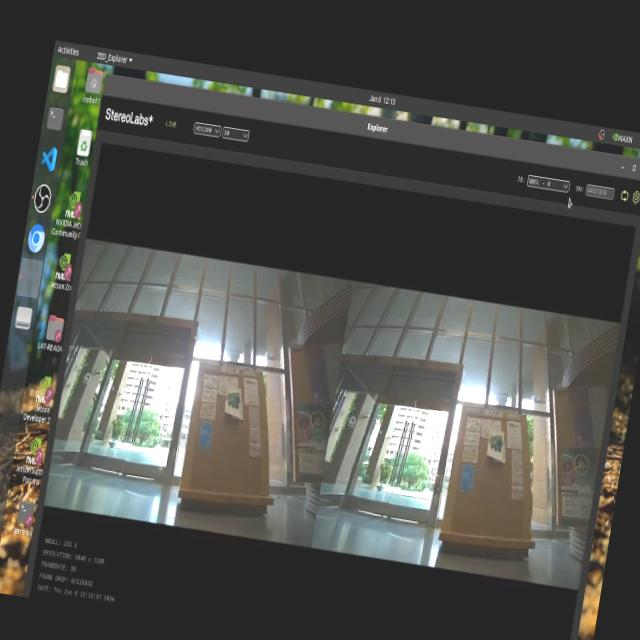green: (478, 430, 508, 466), (218, 388, 250, 418)
